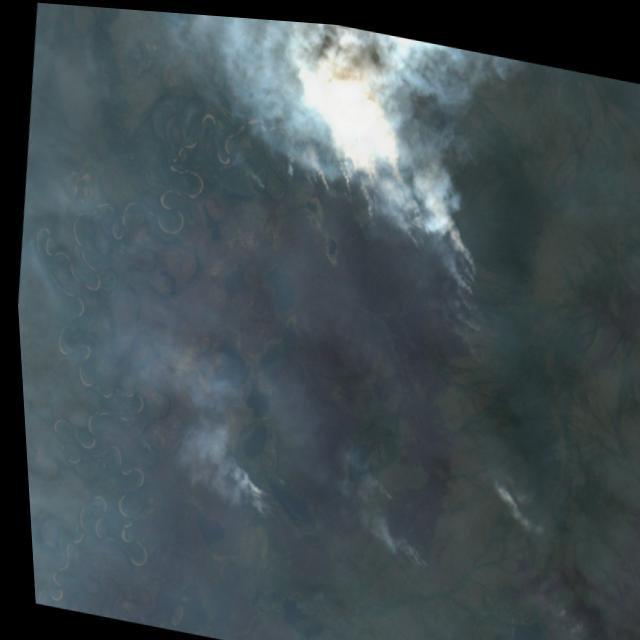fire: (233, 44, 517, 360), (347, 440, 467, 599), (226, 451, 324, 570)
